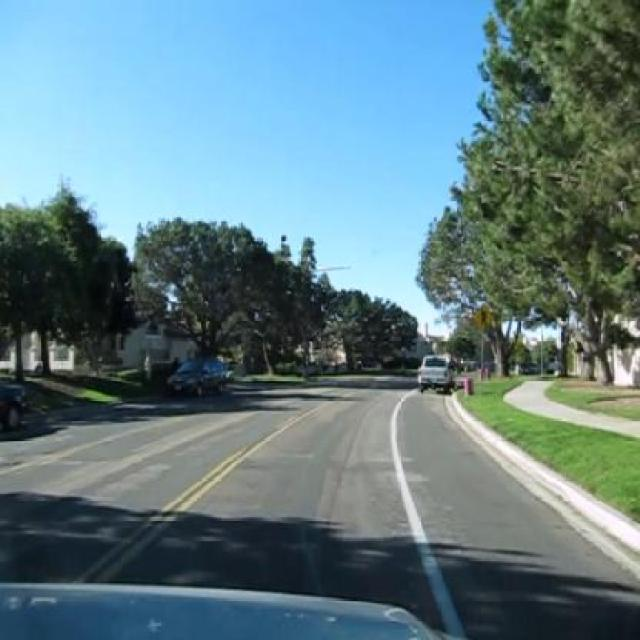pedestrianCrossing: (471, 301, 495, 334)
